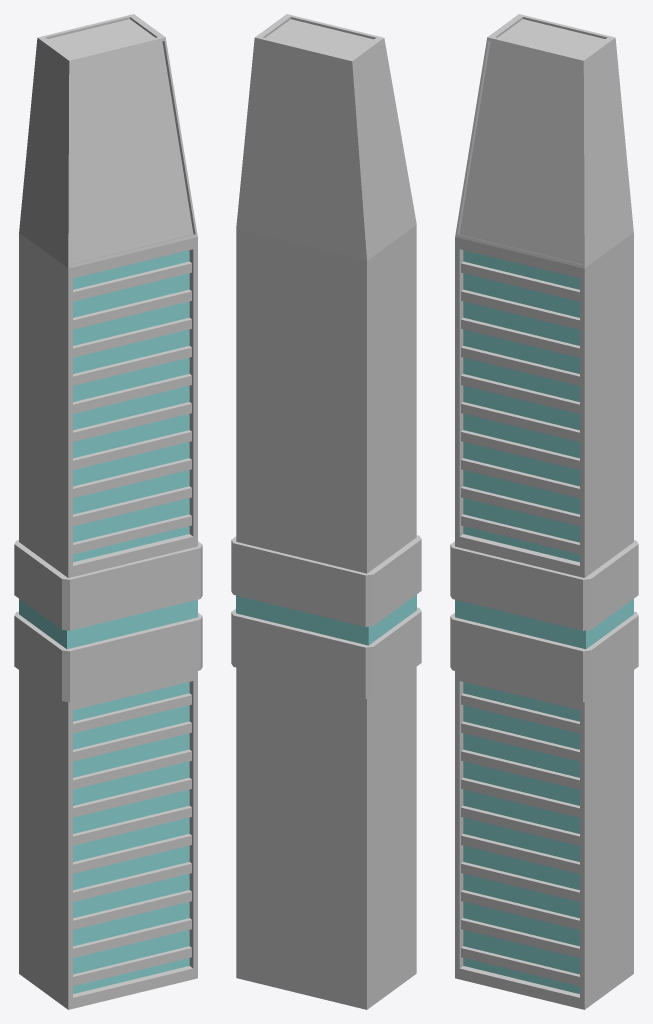
The model's file is Buillding5.fbx.
3 views of the same model, side by side, from view 1: azimuth 30°, elevation 25°; view 2: azimuth 150°, elevation 25°; view 3: azimuth 330°, elevation 25° (orthographic).
Visible parts, largest first — view 1: Cube.001; view 2: Cube.001; view 3: Cube.001.
Part boxes in pixels (bbox=[...]): Cube.001: bbox=[14, 14, 202, 1009]; Cube.001: bbox=[231, 14, 421, 1009]; Cube.001: bbox=[450, 14, 638, 1009].
Size of the model in its own units: 2034 by 12886 by 1340.
